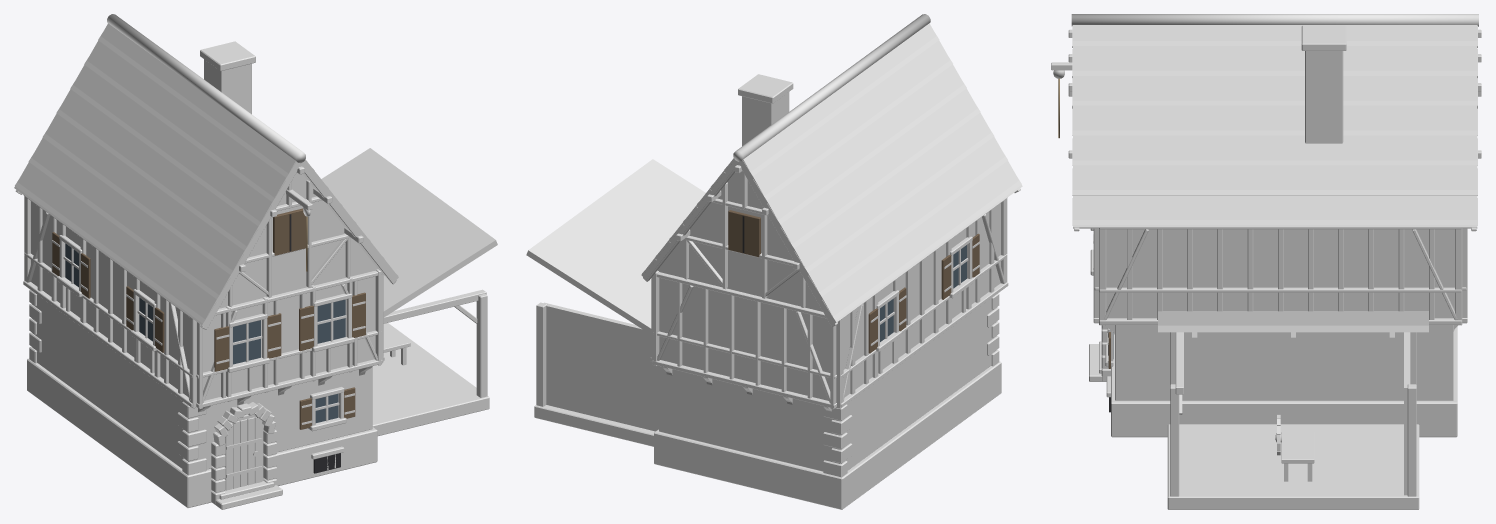
The model's file is ville_20_atelier_charron_hangar.fbx.
The picture shows the model from 3 angles, left to right: view 1: azimuth 30°, elevation 25°; view 2: azimuth 150°, elevation 25°; view 3: azimuth 270°, elevation 25°; orthographic projection. The views are drawn at different scales.
Visible parts, largest first — view 1: ville_20_atelier_charron_hangar_LOD0; view 2: ville_20_atelier_charron_hangar_LOD0; view 3: ville_20_atelier_charron_hangar_LOD0.
Part boxes in pixels (<box>): ville_20_atelier_charron_hangar_LOD0: <box>14,14,497,509</box>; ville_20_atelier_charron_hangar_LOD0: <box>526,14,1022,509</box>; ville_20_atelier_charron_hangar_LOD0: <box>1051,14,1481,509</box>.
Size of what is drawn, in the model's own units: 9.13 by 9.07 by 9.4.
